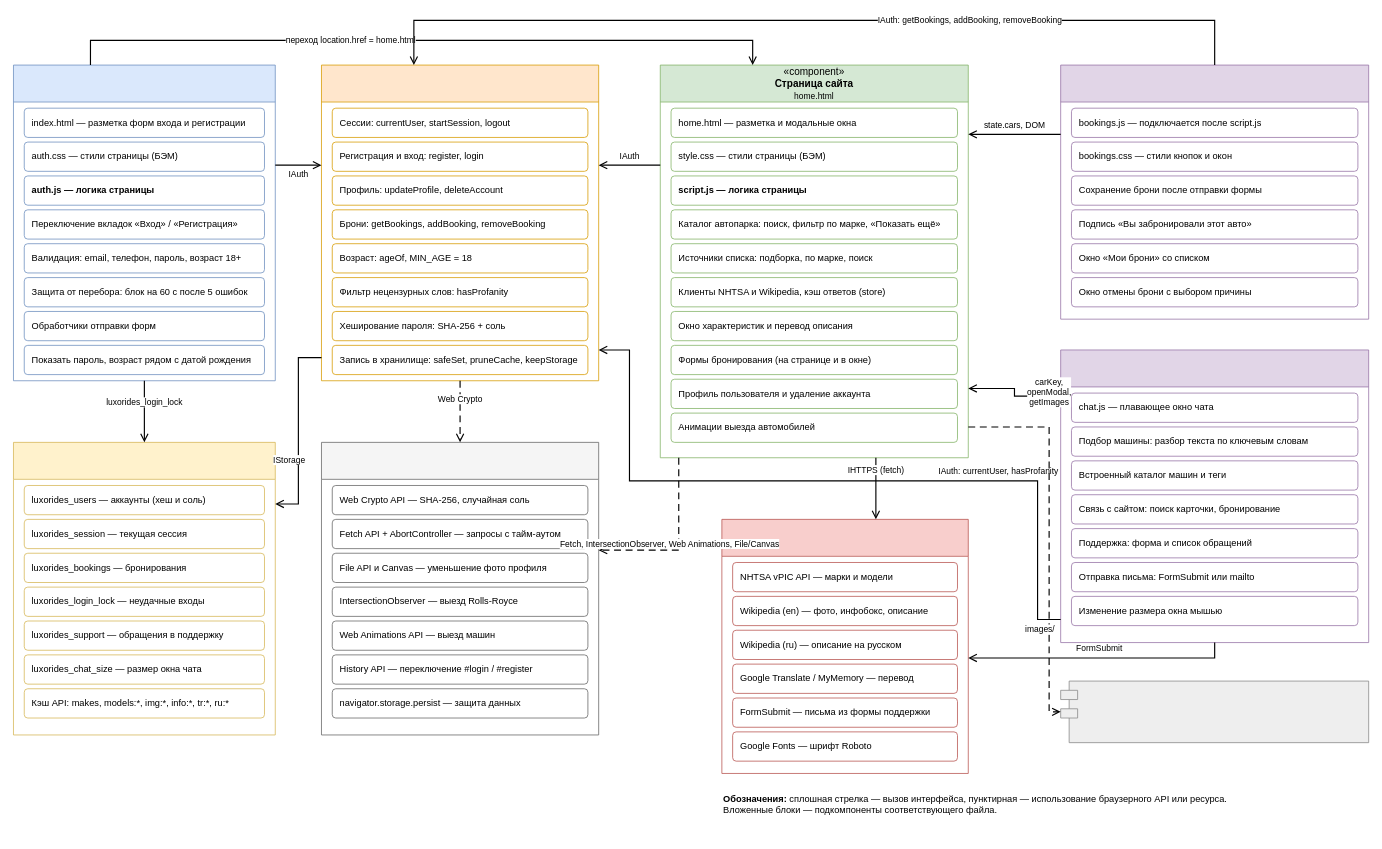
Image size: 1382x849. Some labels were removed from this diagram. Each missing label, with the box of its shape:
«component» Браузерные API: (321, 442, 599, 735)
«component» Внешние сервисы: (721, 519, 968, 773)
«component» Модуль аккаунтов auth-core.js, объект Auth: (321, 64, 599, 381)
«component» Модуль бронирований bookings.js + bookings.css: (1060, 64, 1369, 319)
«component» Статические ресурсы images/: (1060, 680, 1369, 743)
«component» Страница входа index.html: (13, 64, 275, 381)
«component» Хранилище браузера Web Storage API: (13, 442, 275, 735)
«component» Чат-помощник chat.js + chat.css: (1060, 349, 1369, 643)
